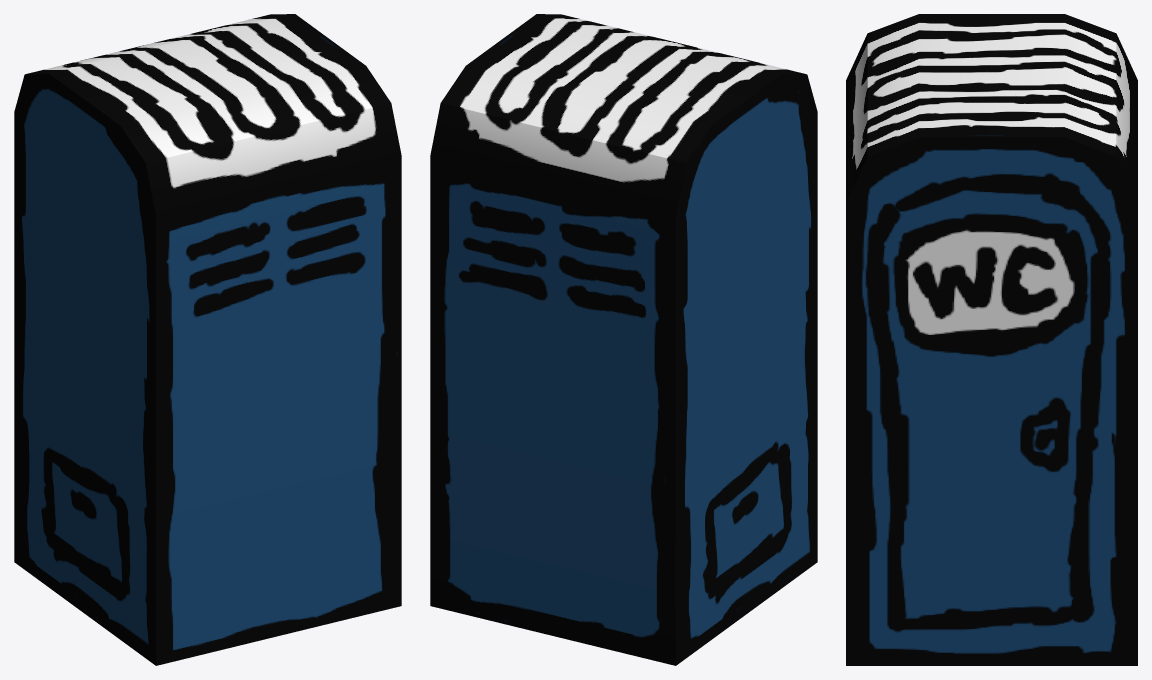
The model's file is SM_Potty.fbx.
3 views of the same model, side by side, from view 1: azimuth 30°, elevation 25°; view 2: azimuth 150°, elevation 25°; view 3: azimuth 270°, elevation 25° (orthographic). The views are drawn at different scales.
Parts seen in each view (by area): view 1: pCube2; view 2: pCube2; view 3: pCube2.
Part boxes in pixels (bbox=[...]): pCube2: bbox=[14, 14, 401, 665]; pCube2: bbox=[430, 14, 817, 665]; pCube2: bbox=[846, 14, 1137, 665].
Bounding box in the file's own units: 100 × 200 × 100.
